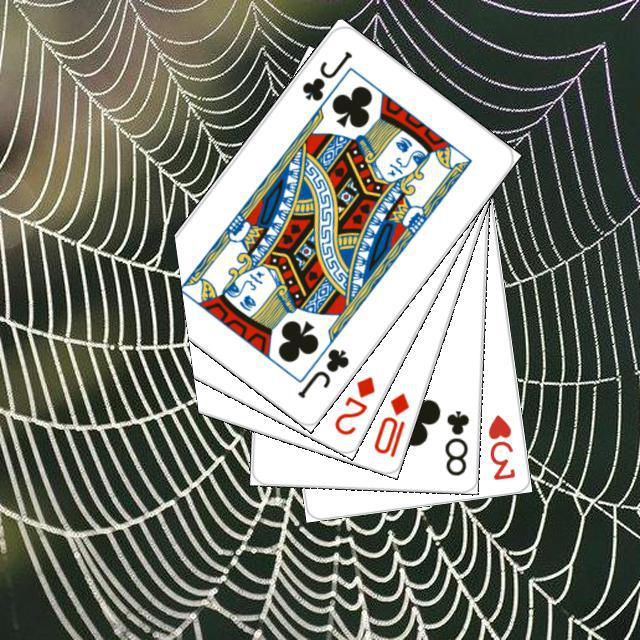10d: (368, 388, 411, 459)
2d: (329, 371, 377, 437)
3h: (483, 409, 517, 482)
8c: (440, 405, 470, 477)
Jc: (292, 343, 351, 400), (296, 46, 354, 103)
